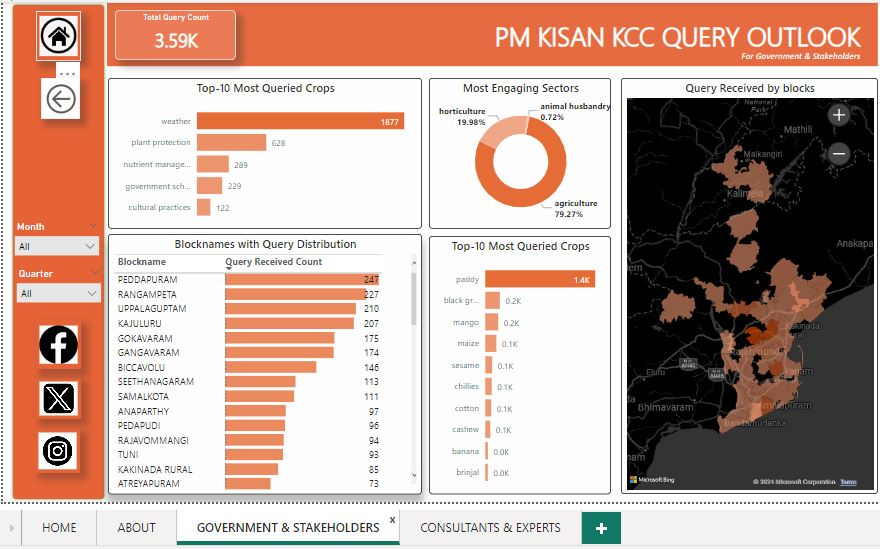

What the dashboard file says about the page in this screenshot:
{"tool":"powerbi","page":{"name":"GOVERNMENT & STAKEHOLDERS","canvas":[1280,720],"ordinal":2},"visuals":[{"type":"shape","box":[10.1,0,139.7,720],"z":0},{"type":"textbox","box":[149.8,1.4,1110.2,90.7],"z":1000},{"type":"barChart","title":"Top-10 Most Queried Crops","fields":{"Category":["DOWNSTREAM_READY_EXTRACTS.Crops"],"Y":["CountNonNull(DOWNSTREAM_READY_EXTRACTS.Crops)"]},"box":[613.4,337,262.1,371.5],"z":2000},{"type":"slicer","fields":{"Values":["DOWNSTREAM_READY_EXTRACTS.quarter"]},"box":[10.1,377.3,141.1,66.2],"z":3000},{"type":"slicer","fields":{"Values":["DOWNSTREAM_READY_EXTRACTS.month"]},"box":[7.2,309.6,141.1,67.7],"z":4000},{"type":"card","title":"Total Query Count","fields":{"Values":["CountNonNull(DOWNSTREAM_READY_EXTRACTS.Crops)"]},"box":[161.3,11.5,174.2,72],"z":5000},{"type":"image","box":[47.5,13,64.8,72],"z":6000},{"type":"image","box":[47.5,541.4,64.8,59],"z":7000},{"type":"image","box":[46.1,614.9,64.8,63.4],"z":8000},{"type":"textbox","box":[938.9,63.4,301,28.8],"z":9000},{"type":"image","box":[47.5,457.9,64.8,70.6],"z":10000},{"type":"filledMap","fields":{"Category":["DOWNSTREAM_READY_EXTRACTS.blocks"]},"box":[889.9,109.4,370.1,599],"z":11000},{"type":"donutChart","title":"Most Engaging Sectors","fields":{"Category":["DOWNSTREAM_READY_EXTRACTS.Sector"],"Y":["CountNonNull(DOWNSTREAM_READY_EXTRACTS.Sector)"]},"box":[613.4,109.4,262.1,217.4],"z":12000},{"type":"barChart","title":"Top-10 Most Queried Crops","fields":{"Y":["CountNonNull(DOWNSTREAM_READY_EXTRACTS.QueryType)"],"Category":["DOWNSTREAM_READY_EXTRACTS.QueryType"]},"box":[151.2,109.4,452.2,217.4],"z":13000},{"type":"tableEx","title":"Blocknames with Query Distribution","fields":{"Values":["DOWNSTREAM_READY_EXTRACTS.blocks","CountNonNull(DOWNSTREAM_READY_EXTRACTS.kccEng)"]},"box":[151.2,334.3,451.9,374.6],"z":14000},{"type":"actionButton","box":[54.7,109.4,56.2,59],"z":15000}]}

Visuals, with their boxes in screenshot pixels (x1, y1, x2, y2):
shape: 7,0,105,506
textbox: 105,1,879,65
"Top-10 Most Queried Crops" barChart: 431,237,615,498
slicer - DOWNSTREAM_READY_EXTRACTS.quarter: 7,265,106,312
slicer - DOWNSTREAM_READY_EXTRACTS.month: 5,218,104,265
"Total Query Count" card: 113,8,236,59
image: 33,9,79,60
image: 33,381,79,422
image: 32,432,78,477
textbox: 660,45,872,65
image: 33,322,79,371
filledMap - DOWNSTREAM_READY_EXTRACTS.blocks: 626,77,879,498
"Most Engaging Sectors" donutChart: 431,77,615,230
"Top-10 Most Queried Crops" barChart: 106,77,424,230
"Blocknames with Query Distribution" tableEx: 106,235,424,498
actionButton: 38,77,78,118
